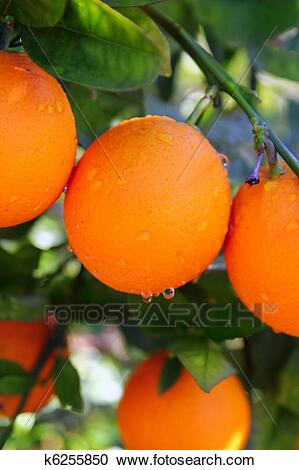orange: (63, 114, 228, 298), (117, 341, 248, 448), (1, 49, 78, 226), (225, 165, 299, 340), (1, 294, 73, 419)
